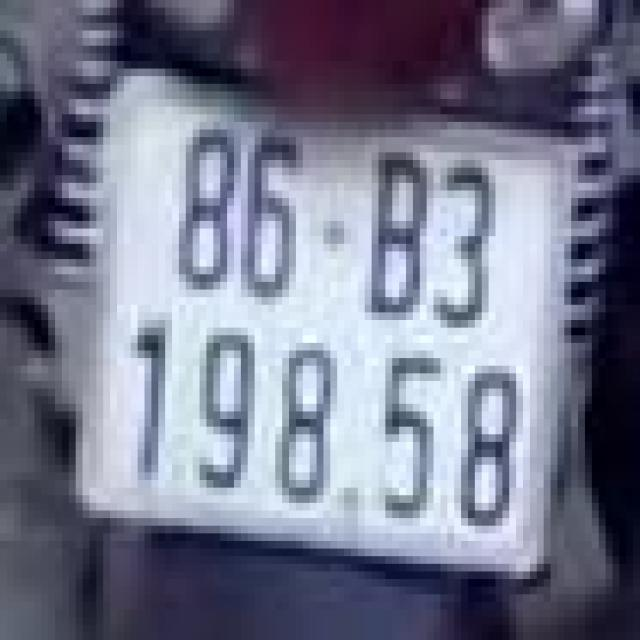1: (117, 301, 179, 484)
3: (440, 141, 502, 339)
5: (368, 343, 451, 548)
6: (238, 130, 306, 304)
8: (447, 339, 523, 537), (268, 328, 338, 526), (165, 122, 234, 297)
9: (192, 305, 262, 503)
B: (355, 134, 430, 332)
